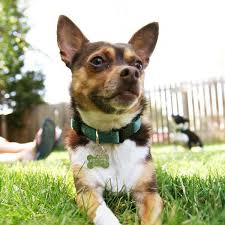chihuahua: (56, 14, 163, 225)
